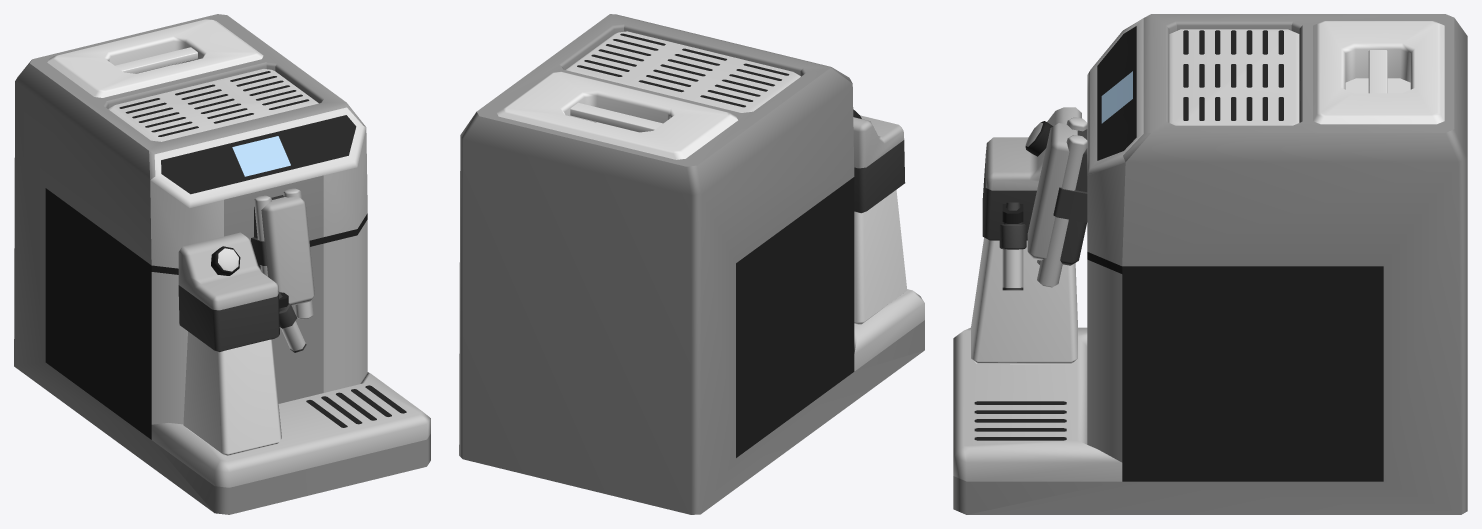
The model's file is electronics_004.fbx.
3 views of the same model, side by side, from view 1: azimuth 30°, elevation 25°; view 2: azimuth 150°, elevation 25°; view 3: azimuth 270°, elevation 25° (orthographic). The views are drawn at different scales.
Parts seen in each view (by area): view 1: electronics_004; view 2: electronics_004; view 3: electronics_004.
Part boxes in pixels (x1,y1,x2,y2): electronics_004: (14,14,430,514); electronics_004: (459,14,924,514); electronics_004: (953,14,1467,514).
Size of the model in its own units: 52.34 by 87.45 by 71.65.
